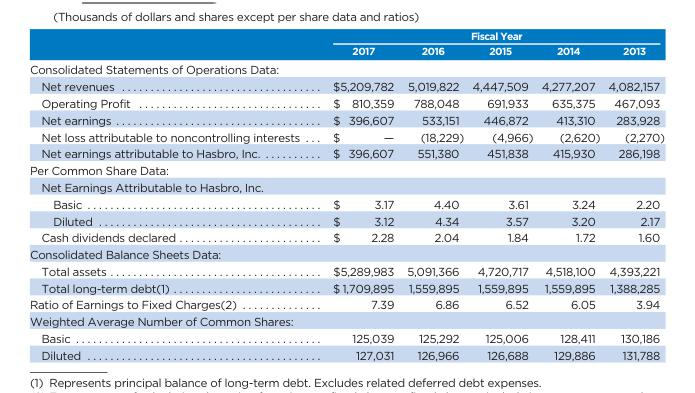table: (28, 28, 664, 361)
table column: (28, 28, 315, 361), (315, 28, 399, 361), (467, 28, 536, 361), (399, 28, 467, 361), (536, 28, 603, 361), (603, 28, 664, 361)
table column header: (28, 28, 664, 59)
table projected row header: (28, 59, 664, 77), (28, 161, 664, 178), (28, 178, 664, 195), (28, 245, 664, 262), (28, 312, 664, 329)
table row: (28, 59, 664, 77), (28, 42, 664, 59), (28, 77, 664, 94), (28, 94, 664, 111), (28, 127, 664, 144), (28, 144, 664, 161), (28, 161, 664, 178), (28, 178, 664, 195), (28, 211, 664, 228), (28, 228, 664, 245), (28, 245, 664, 262), (28, 262, 664, 279), (28, 295, 664, 312), (28, 312, 664, 329), (28, 329, 664, 346), (28, 111, 664, 127), (28, 195, 664, 211), (28, 279, 664, 295), (28, 346, 664, 361), (28, 28, 664, 42)
table spanning cell: (315, 28, 664, 42)
